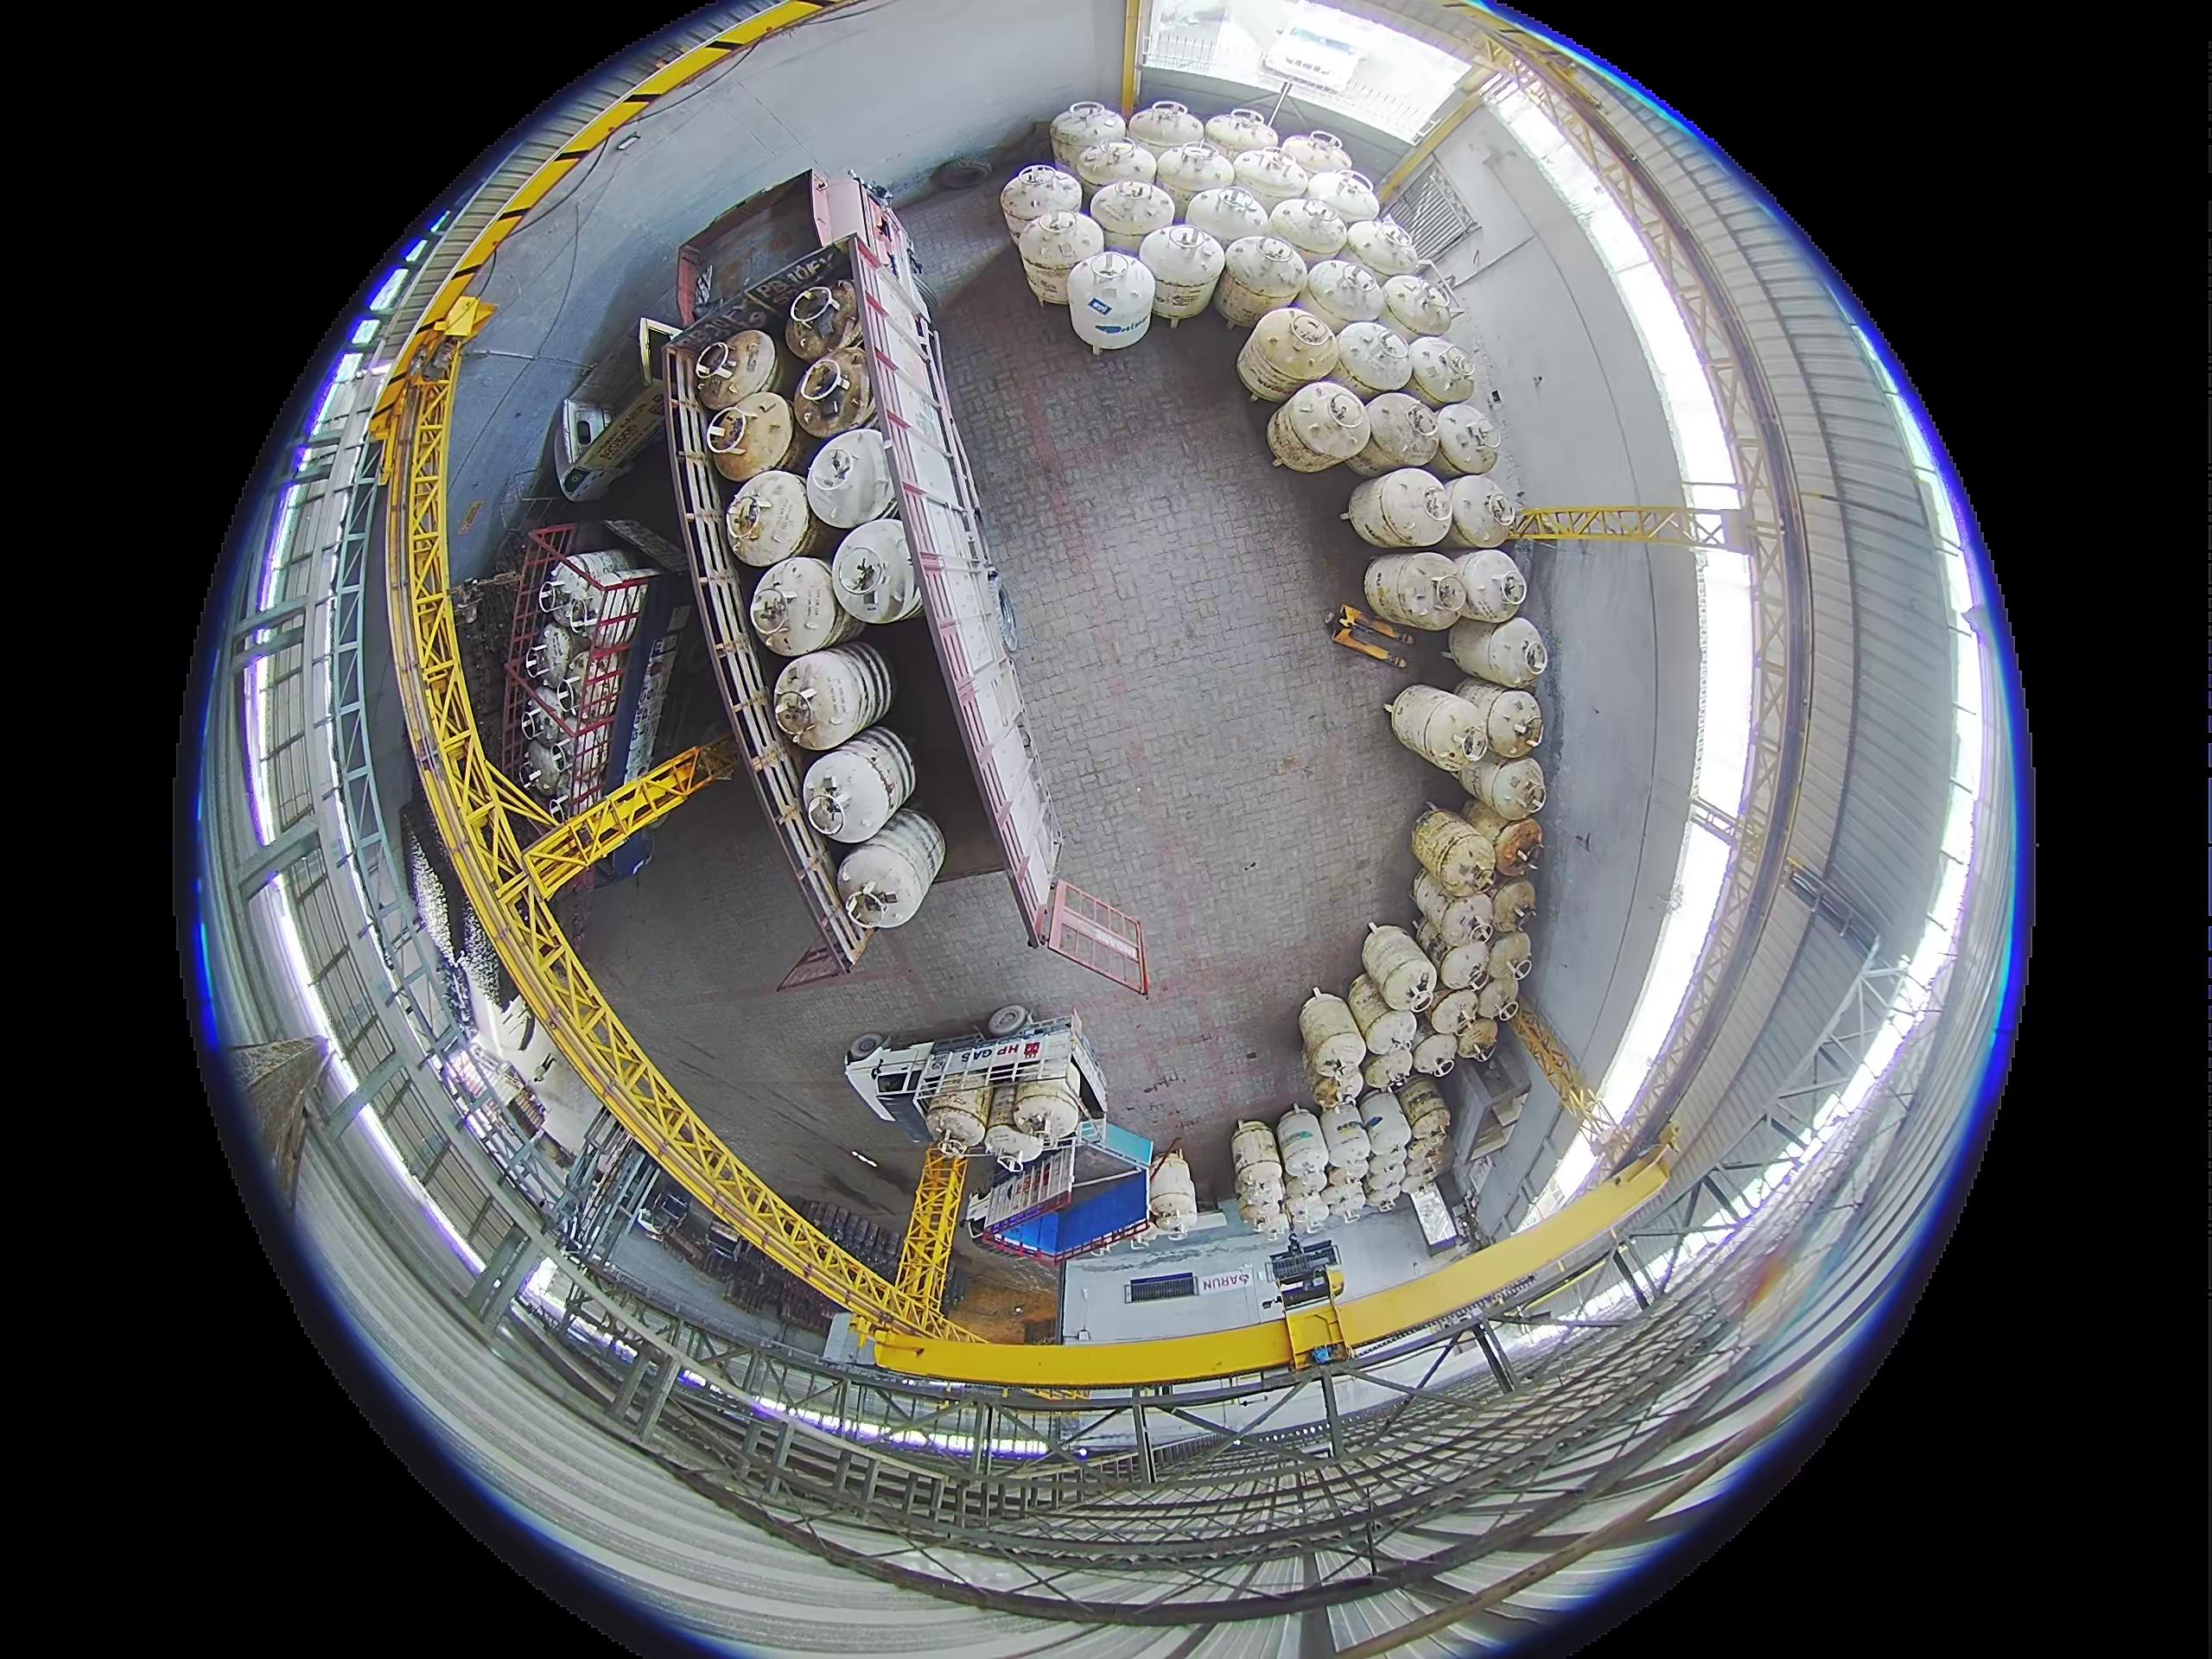cylinder: (796, 725, 914, 842), (834, 807, 946, 931), (770, 641, 895, 749), (803, 427, 897, 528), (1357, 561, 1475, 641), (831, 521, 920, 626), (1388, 685, 1493, 772), (1237, 307, 1331, 403), (752, 556, 843, 653), (725, 472, 815, 566), (1217, 235, 1306, 331), (1014, 214, 1099, 314), (1266, 385, 1364, 471), (1139, 223, 1223, 322), (1066, 251, 1148, 350), (704, 390, 794, 479), (792, 349, 876, 441), (1447, 615, 1548, 690), (1346, 469, 1442, 547), (690, 328, 777, 413), (1409, 807, 1494, 892), (1298, 986, 1366, 1089), (1359, 922, 1437, 1007), (1303, 258, 1386, 336), (1360, 390, 1440, 471), (1332, 319, 1414, 397), (1153, 139, 1235, 218), (1090, 178, 1174, 253), (1183, 185, 1270, 256), (1000, 164, 1080, 240), (1453, 547, 1531, 620), (786, 286, 859, 362), (1447, 474, 1522, 547), (1465, 753, 1547, 819), (1268, 193, 1350, 260), (925, 1072, 989, 1155), (1050, 99, 1122, 174), (1433, 401, 1503, 476), (1379, 274, 1456, 342), (1075, 134, 1151, 202), (1231, 146, 1310, 213), (1406, 335, 1477, 406), (1012, 1075, 1082, 1148), (1125, 101, 1204, 166), (1303, 167, 1381, 228), (1275, 1107, 1329, 1194), (1345, 220, 1421, 279), (1357, 1087, 1413, 1164), (984, 1077, 1033, 1161), (1151, 1148, 1197, 1237), (1278, 129, 1355, 181), (1318, 1100, 1372, 1173), (528, 620, 582, 692), (1204, 108, 1277, 160), (1346, 974, 1399, 1046), (1433, 892, 1494, 953), (1360, 1009, 1423, 1068), (1463, 798, 1531, 850), (1399, 1075, 1451, 1143), (1437, 939, 1493, 995), (524, 734, 570, 798), (1231, 1117, 1282, 1175), (1426, 988, 1482, 1039), (1493, 819, 1543, 875), (1484, 931, 1533, 988), (1411, 873, 1460, 931), (1235, 1162, 1285, 1216), (1360, 1049, 1413, 1098), (1489, 880, 1536, 934), (1402, 1127, 1447, 1183), (1411, 1032, 1460, 1080), (1475, 974, 1522, 1025), (1451, 1016, 1498, 1066), (1414, 908, 1456, 958), (1285, 1188, 1331, 1234), (1364, 1162, 1406, 1208), (1329, 1180, 1366, 1220)
truck: (664, 145, 1087, 939), (500, 537, 665, 868), (845, 1006, 1153, 1166), (523, 317, 679, 502), (965, 1124, 1153, 1267), (974, 1173, 1153, 1283)
